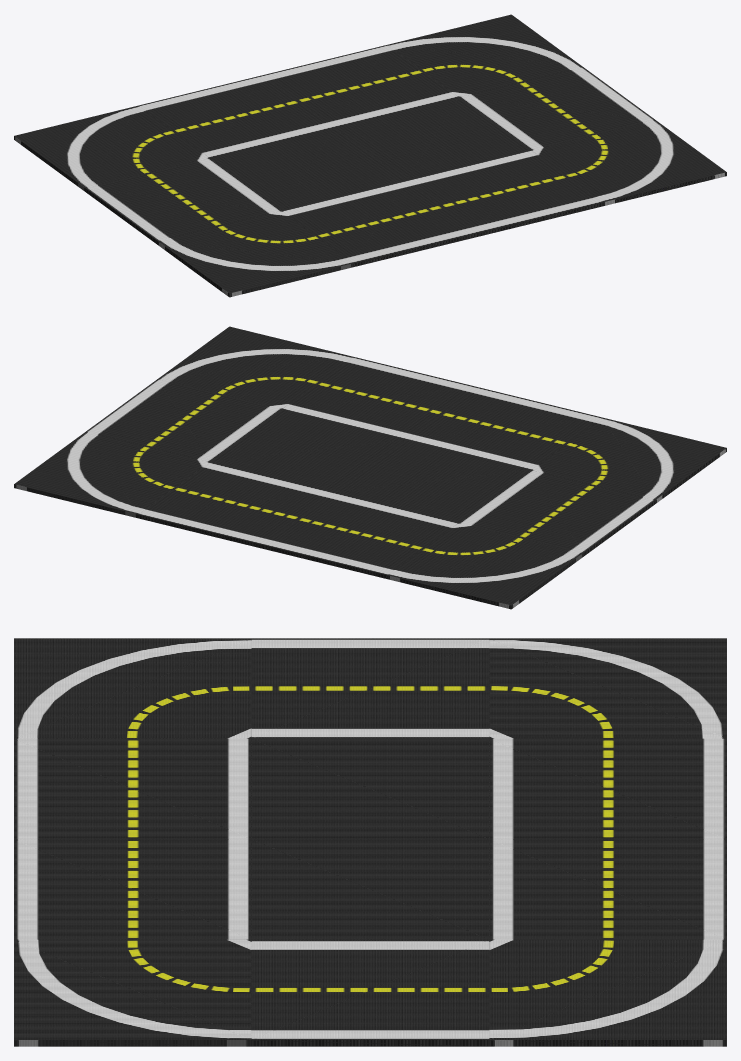
File: small_loop.dae
3 renders of one model, top to bottom at view 1: azimuth 30°, elevation 25°; view 2: azimuth 150°, elevation 25°; view 3: azimuth 270°, elevation 25°, orthographic. The views are drawn at different scales.
Parts seen in each view (by area): view 1: tile.001, tile.010, tile.002, tile.009, tile, tile.005, tile.006, tile.011, tile.008, tile.007, tile.004, tile.003; view 2: tile.005, tile.006, tile.004, tile.007, tile, tile.001, tile.010, tile.011, tile.009, tile.008, tile.003, tile.002; view 3: tile.008, tile.009, tile.007, tile.003, tile.004, tile.002, tile.011, tile, tile.010, tile.006, tile.005, tile.001.
Boxes of the visible parts, x1,y1,x2,y2 form: tile.001: [157, 210, 353, 297]; tile.010: [407, 150, 602, 236]; tile.002: [282, 180, 478, 266]; tile.009: [531, 119, 726, 206]; tile: [85, 158, 281, 244]; tile.005: [14, 105, 209, 191]; tile.006: [263, 45, 458, 127]; tile.011: [335, 97, 530, 180]; tile.008: [459, 67, 654, 149]; tile.007: [387, 14, 582, 97]; tile.004: [138, 75, 334, 157]; tile.003: [210, 128, 405, 210]; tile.005: [387, 522, 583, 609]; tile.006: [138, 462, 333, 548]; tile.004: [262, 492, 458, 578]; tile.007: [14, 431, 209, 518]; tile: [459, 470, 655, 556]; tile.001: [531, 417, 726, 503]; tile.010: [282, 357, 477, 439]; tile.011: [210, 409, 405, 492]; tile.009: [158, 326, 353, 409]; tile.008: [86, 379, 281, 461]; tile.003: [335, 440, 530, 522]; tile.002: [406, 387, 602, 469]; tile.008: [251, 939, 489, 1046]; tile.009: [14, 939, 251, 1046]; tile.007: [489, 939, 726, 1046]; tile.003: [251, 738, 489, 839]; tile.004: [489, 738, 726, 839]; tile.002: [14, 738, 251, 839]; tile.011: [251, 839, 489, 939]; tile: [251, 638, 489, 738]; tile.010: [14, 839, 251, 939]; tile.006: [489, 839, 726, 939]; tile.005: [489, 638, 726, 738]; tile.001: [14, 638, 251, 738].
Size of the model in its own units: 2.4 by 1.8 by 0.018.
5 materials, 5 textured.
